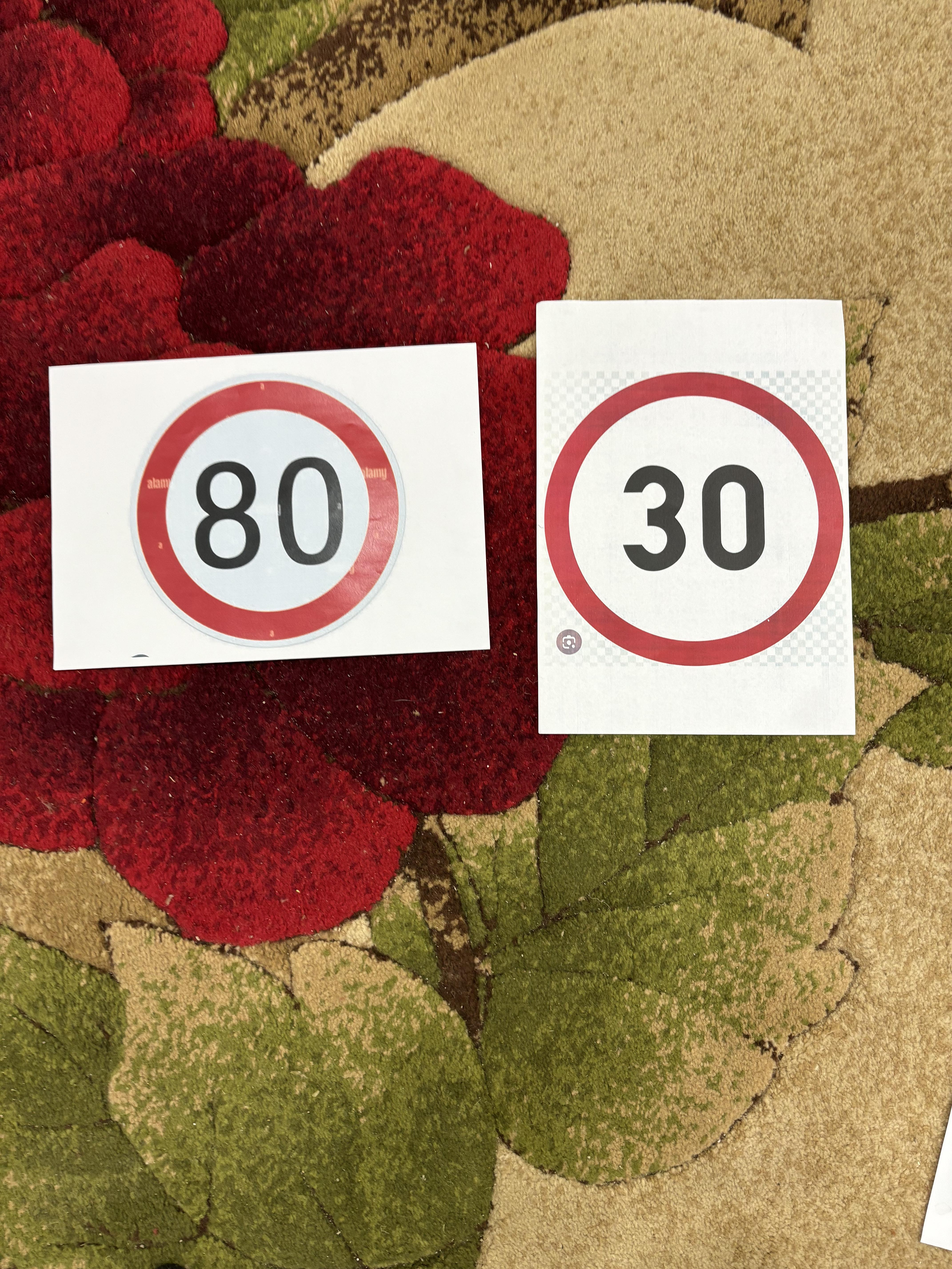30-speed: (539, 358, 856, 682)
80-Speed: (132, 369, 412, 650)
